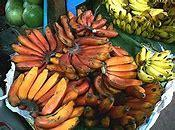banana: (5, 66, 79, 130), (77, 90, 157, 126), (103, 0, 175, 37), (128, 43, 175, 84), (54, 35, 106, 71), (11, 26, 56, 67), (90, 53, 136, 92), (54, 7, 111, 38)
